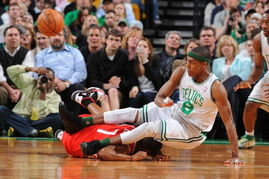10+: (1, 1, 267, 179)
down: (52, 44, 245, 159), (46, 83, 171, 167)
